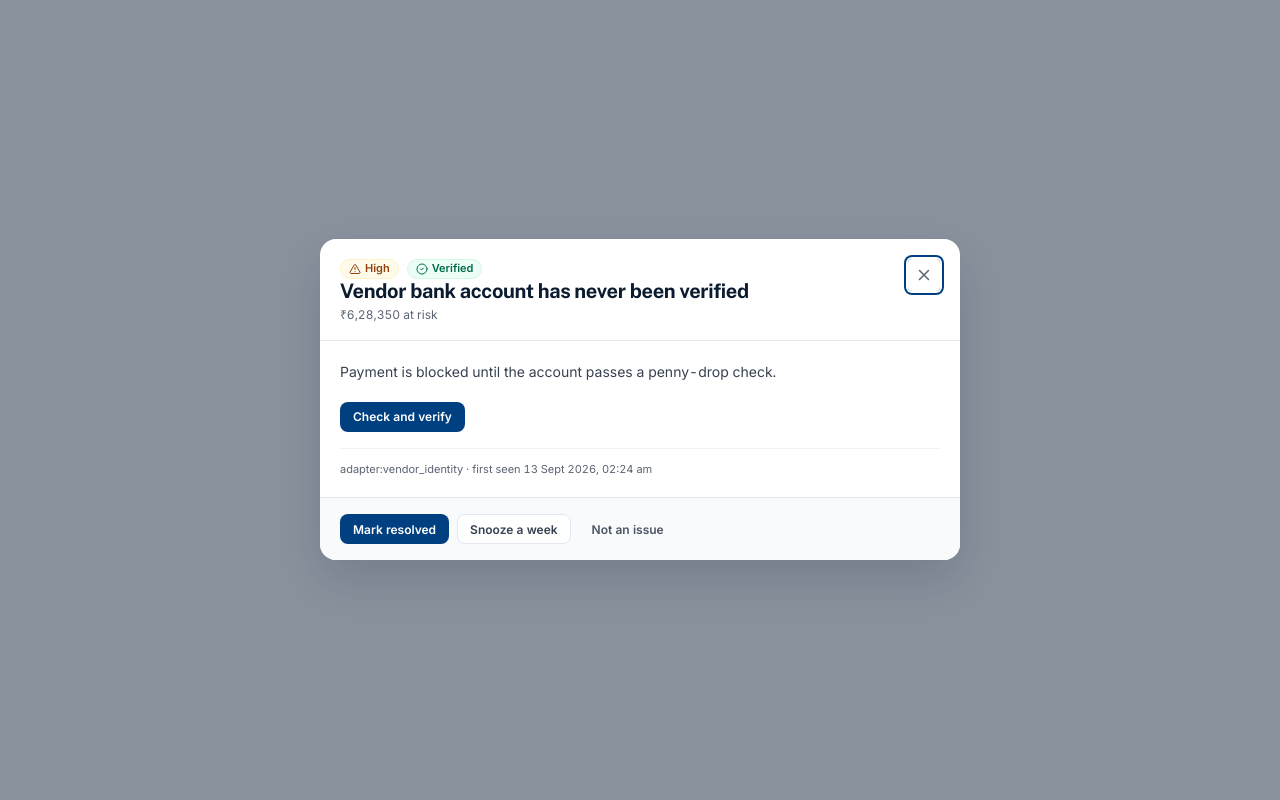
Test: an action that carries fields › opens a form prefilled with what is on file
Click the button "Check and verify" at (402, 417), box [340,402,465,432]
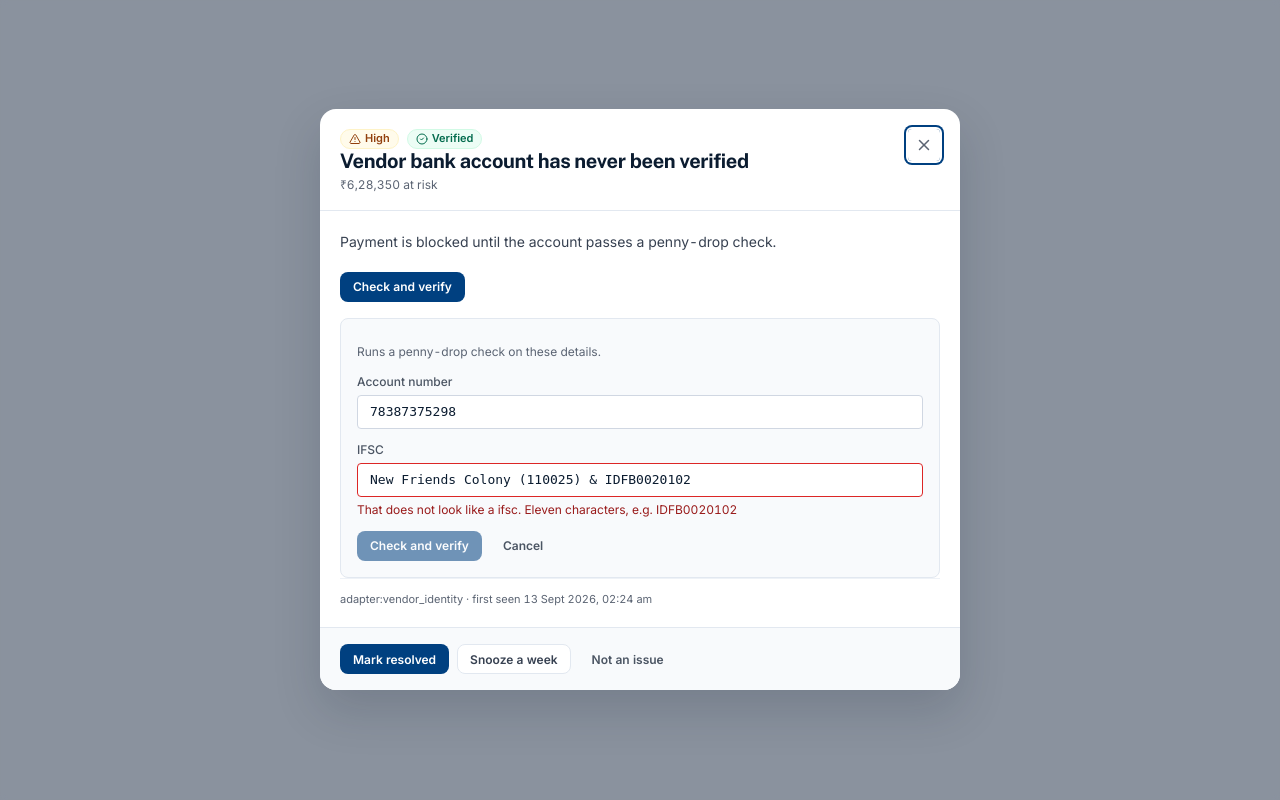
Result: the field showing "78387375298" is shown at [357,395,923,429]
Result: the field showing "New Friends Colony (110025) & IDFB0020102" is shown at [357,463,923,497]
